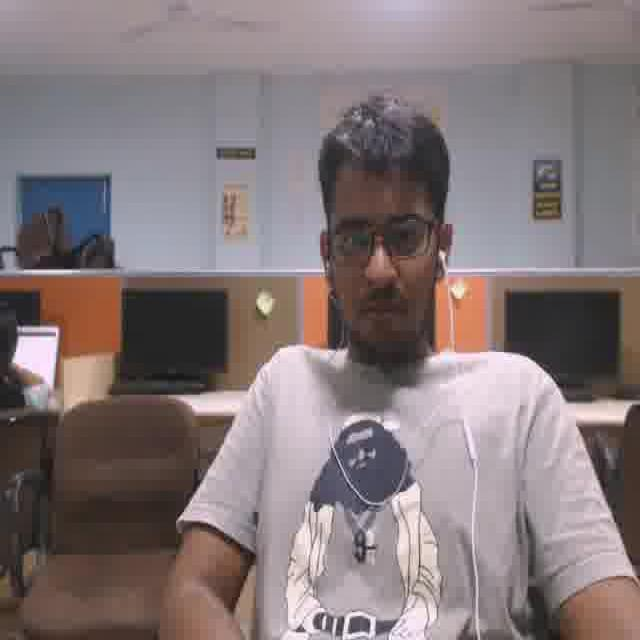Confusion: (326, 171, 433, 352)
